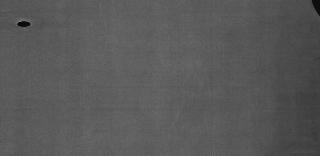punching hole: (14, 18, 34, 30)
